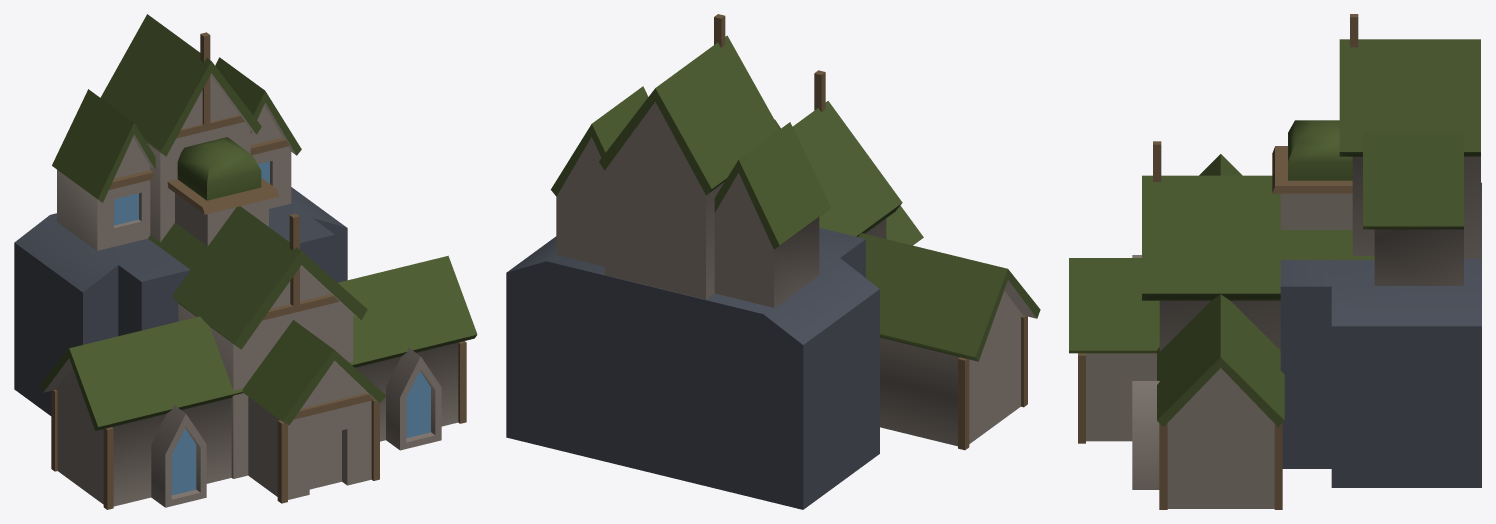
The model's file is Town_center.fbx.
3 renders of one model, left to right at view 1: azimuth 30°, elevation 25°; view 2: azimuth 150°, elevation 25°; view 3: azimuth 270°, elevation 25°, orthographic. The views are drawn at different scales.
Visible parts, largest first — view 1: Town_center; view 2: Town_center; view 3: Town_center.
Boxes of the visible parts, bbox=[...] form: Town_center: bbox=[14, 14, 477, 509]; Town_center: bbox=[506, 14, 1040, 509]; Town_center: bbox=[1069, 14, 1481, 509].
Bounding box in the file's own units: 1554 × 1430 × 1332.
